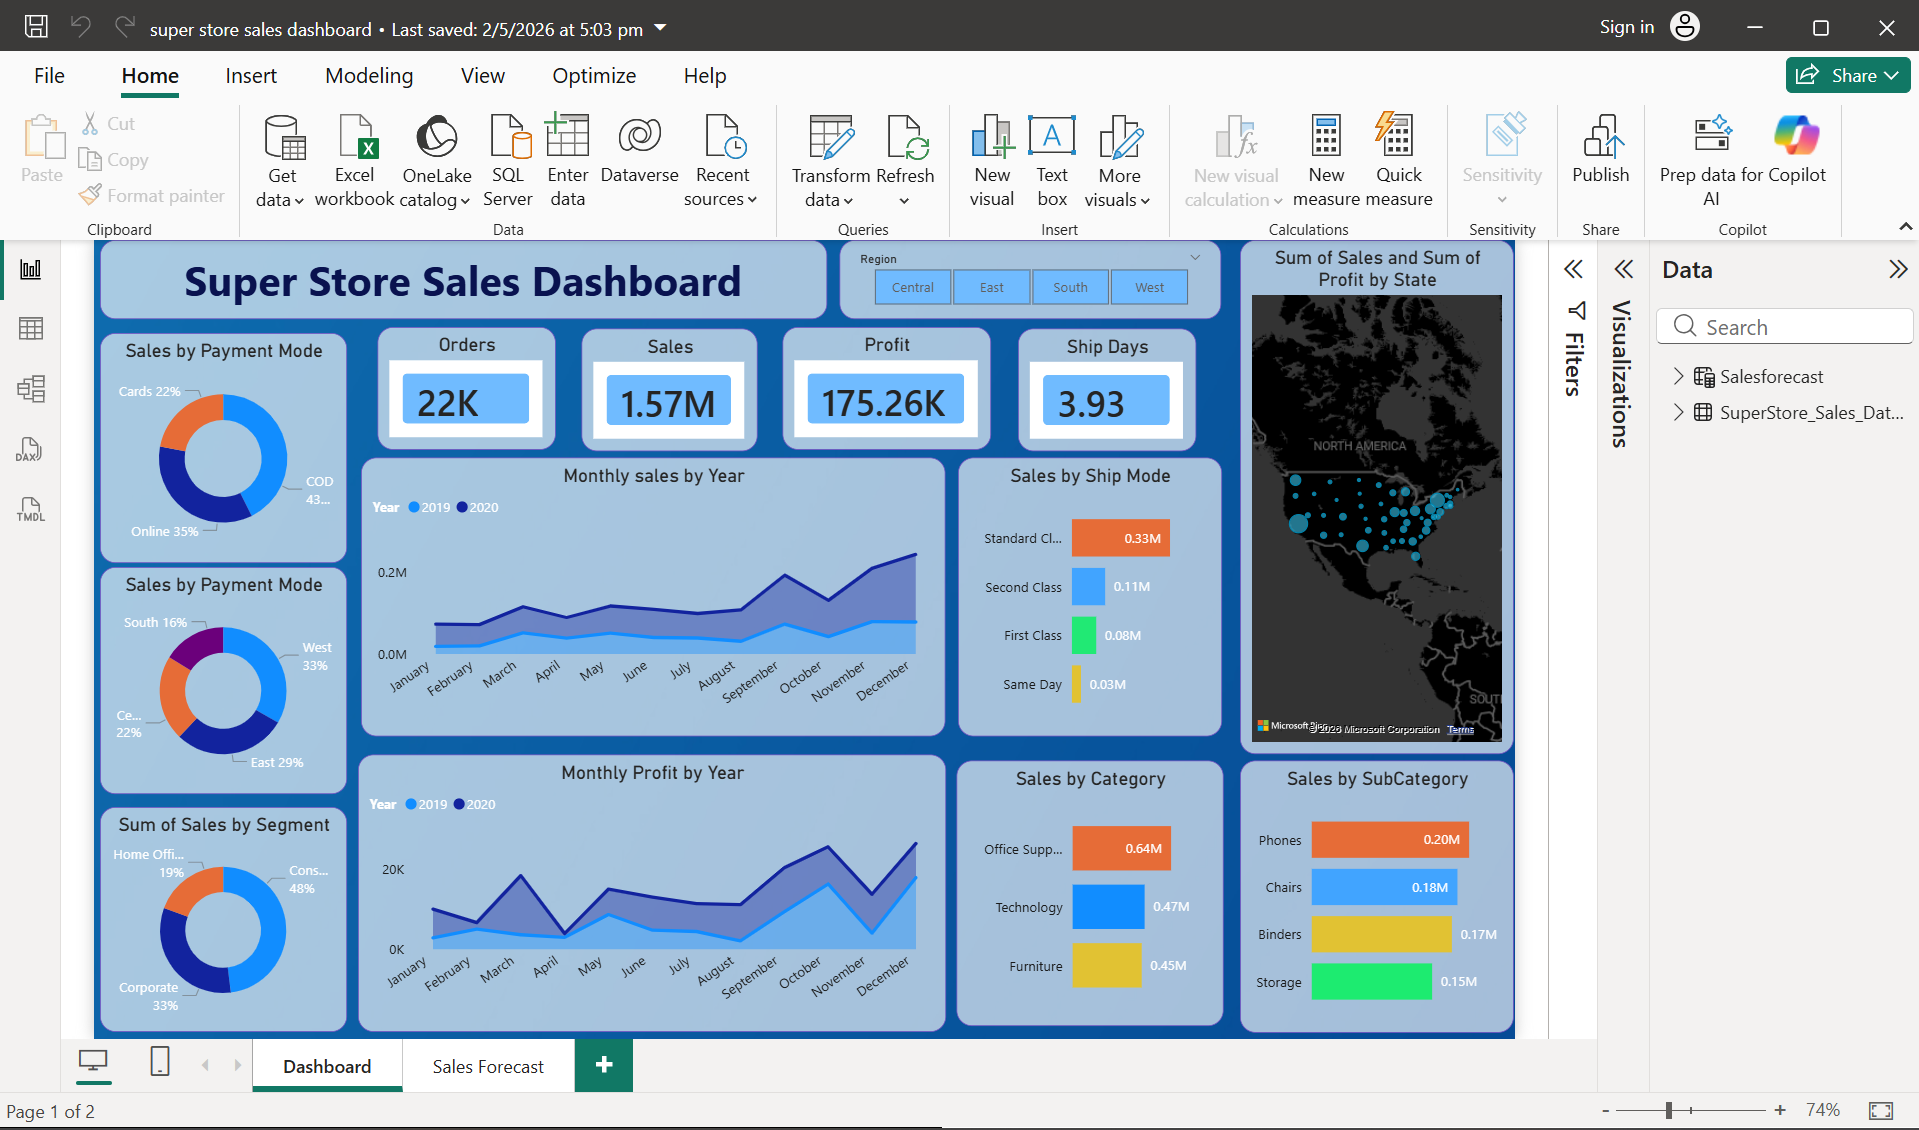

Layout of this report page (visuals, bound fields, positions):
{"tool":"powerbi","page":{"name":"Dashboard","canvas":[1280,720],"ordinal":0},"visuals":[{"type":"clusteredBarChart","title":"Sales by Category","fields":{"Category":["SuperStore_Sales_Dataset.Category"],"Y":["Sum(SuperStore_Sales_Dataset.Sales)"]},"box":[776.8,469.4,240.8,239.2],"z":0},{"type":"clusteredBarChart","title":"Sales by SubCategory","fields":{"Category":["SuperStore_Sales_Dataset.Sub-Category"],"Y":["Sum(SuperStore_Sales_Dataset.Sales)"]},"box":[1032.7,469.4,246.8,245.3],"z":1000},{"type":"clusteredBarChart","title":"Sales by Ship Mode","fields":{"Category":["SuperStore_Sales_Dataset.Ship Mode"],"Y":["Sum(SuperStore_Sales_Dataset.Sales)"]},"box":[778.3,195.3,237.7,251.4],"z":2000},{"type":"stackedAreaChart","title":"Monthly sales by Year","fields":{"Y":["Sum(SuperStore_Sales_Dataset.Sales)"],"Category":["SuperStore_Sales_Dataset.Order Date.Variation.Date Hierarchy.Month","SuperStore_Sales_Dataset.Order Date.Variation.Date Hierarchy.Day"],"Series":["SuperStore_Sales_Dataset.Order Date.Variation.Date Hierarchy.Year"]},"box":[240.8,195.3,526.9,251.4],"z":3000},{"type":"stackedAreaChart","title":"Monthly Profit by Year","fields":{"Category":["SuperStore_Sales_Dataset.Order Date.Variation.Date Hierarchy.Month","SuperStore_Sales_Dataset.Order Date.Variation.Date Hierarchy.Day"],"Series":["SuperStore_Sales_Dataset.Order Date.Variation.Date Hierarchy.Year"],"Y":["Sum(SuperStore_Sales_Dataset.Profit)"]},"box":[237.7,463.3,530,249.8],"z":4000},{"type":"map","fields":{"Category":["SuperStore_Sales_Dataset.State"],"Size":["Sum(SuperStore_Sales_Dataset.Sales)"]},"box":[1032.7,0,246.8,463.3],"z":5000},{"type":"donutChart","fields":{"Category":["SuperStore_Sales_Dataset.Segment"],"Y":["Sum(SuperStore_Sales_Dataset.Sales)"]},"box":[6.1,510.3,222.6,202.9],"z":6000},{"type":"donutChart","title":"Sales by Payment Mode","fields":{"Category":["SuperStore_Sales_Dataset.Payment Mode"],"Y":["Sum(SuperStore_Sales_Dataset.Sales)"]},"box":[6.1,83.3,222.6,207.4],"z":7000},{"type":"slicer","fields":{"Values":["SuperStore_Sales_Dataset.Region"]},"box":[672.3,0,343.7,71.2],"z":8000},{"type":"textbox","box":[6.1,0,655.7,71.2],"z":9000},{"type":"cardVisual","title":"Sales","fields":{"Data":["Sum(SuperStore_Sales_Dataset.Sales)"]},"box":[439.1,80.3,159,110.5],"z":10000},{"type":"cardVisual","title":"Orders","fields":{"Data":["Sum(SuperStore_Sales_Dataset.Quantity)"]},"box":[255.9,78.7,160.5,110.5],"z":11000},{"type":"cardVisual","title":"Profit","fields":{"Data":["Sum(SuperStore_Sales_Dataset.Profit)"]},"box":[620.8,78.7,187.8,110.5],"z":12000},{"type":"cardVisual","title":"Ship Days","fields":{"Data":["Avg(SuperStore_Sales_Dataset.AvgDelivery)"]},"box":[832.8,80.3,160.5,110.5],"z":13000},{"type":"donutChart","title":"Sales by Payment Mode","fields":{"Category":["SuperStore_Sales_Dataset.Region"],"Y":["Sum(SuperStore_Sales_Dataset.Sales)"]},"box":[6.1,295.3,222.6,204.4],"z":13001}]}

Visuals, with their boxes on the page's 1280x720 design canvas (x1, y1, x2, y2). These are canvas units, not pixel positions in the 1919x1130 screenshot, which may show the page scaled, cropped or inside an application window:
"Sales by Category" clusteredBarChart: [777, 469, 1018, 709]
"Sales by SubCategory" clusteredBarChart: [1033, 469, 1280, 715]
"Sales by Ship Mode" clusteredBarChart: [778, 195, 1016, 447]
"Monthly sales by Year" stackedAreaChart: [241, 195, 768, 447]
"Monthly Profit by Year" stackedAreaChart: [238, 463, 768, 713]
map - SuperStore_Sales_Dataset.State x Sum(SuperStore_Sales_Dataset.Sales): [1033, 0, 1280, 463]
donutChart - SuperStore_Sales_Dataset.Segment x Sum(SuperStore_Sales_Dataset.Sales): [6, 510, 229, 713]
"Sales by Payment Mode" donutChart: [6, 83, 229, 291]
slicer - SuperStore_Sales_Dataset.Region: [672, 0, 1016, 71]
textbox: [6, 0, 662, 71]
"Sales" cardVisual: [439, 80, 598, 191]
"Orders" cardVisual: [256, 79, 416, 189]
"Profit" cardVisual: [621, 79, 809, 189]
"Ship Days" cardVisual: [833, 80, 993, 191]
"Sales by Payment Mode" donutChart: [6, 295, 229, 500]
